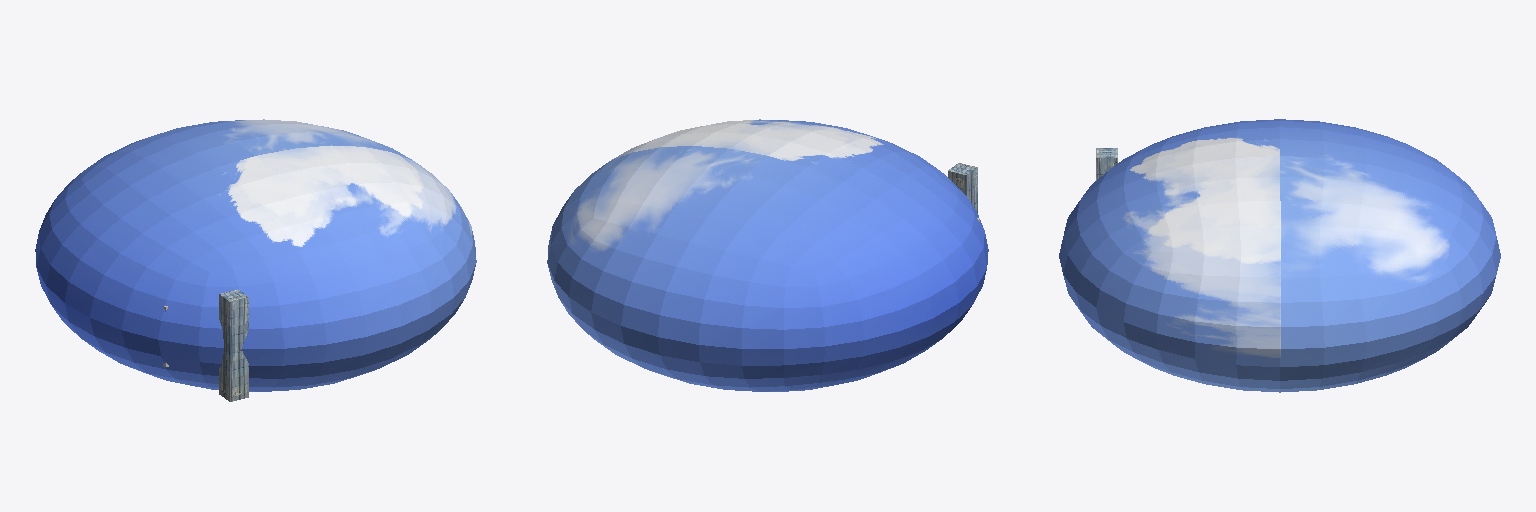
The picture shows the model from 3 angles: view 1: azimuth 30°, elevation 25°; view 2: azimuth 150°, elevation 25°; view 3: azimuth 270°, elevation 25°; orthographic projection.
Visible parts, largest first — view 1: Sphere, Cube (6); view 2: Sphere, Cube (6); view 3: Sphere, Cube (6).
Part boxes in pixels (x1,y1,x2,y2): Sphere: (35,119,476,391); Cube (6): (219,289,248,401); Sphere: (547,119,988,391); Cube (6): (948,163,977,212); Sphere: (1059,119,1500,392); Cube (6): (1096,148,1117,180).
Bounding box in the file's own units: 2000 × 1000 × 2000.
Materials: 10 (9 with a texture image).